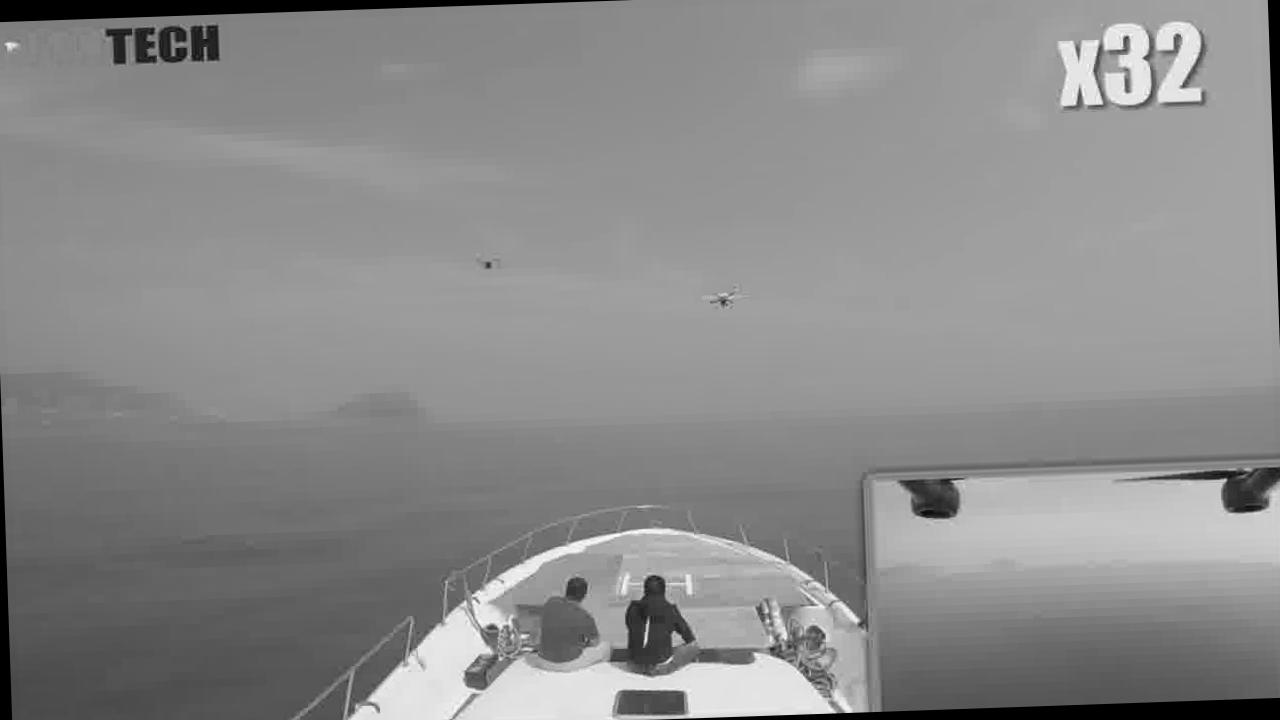drone: (448, 229, 516, 288), (691, 263, 756, 318)
